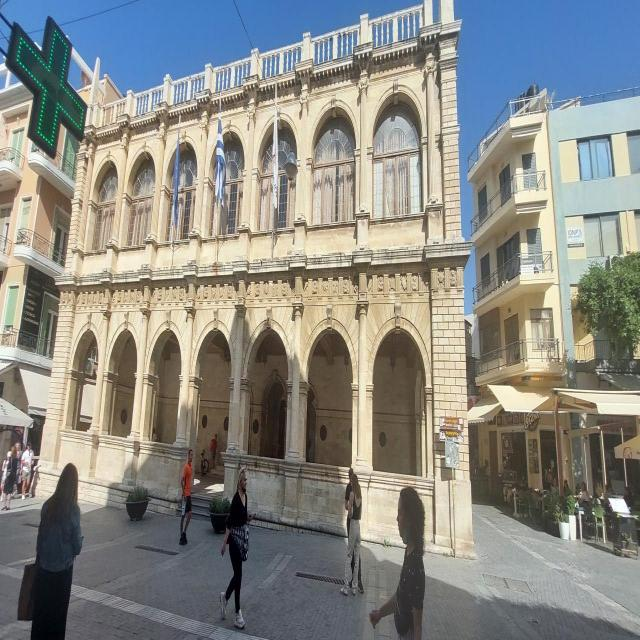Loggia: (30, 1, 483, 566)
